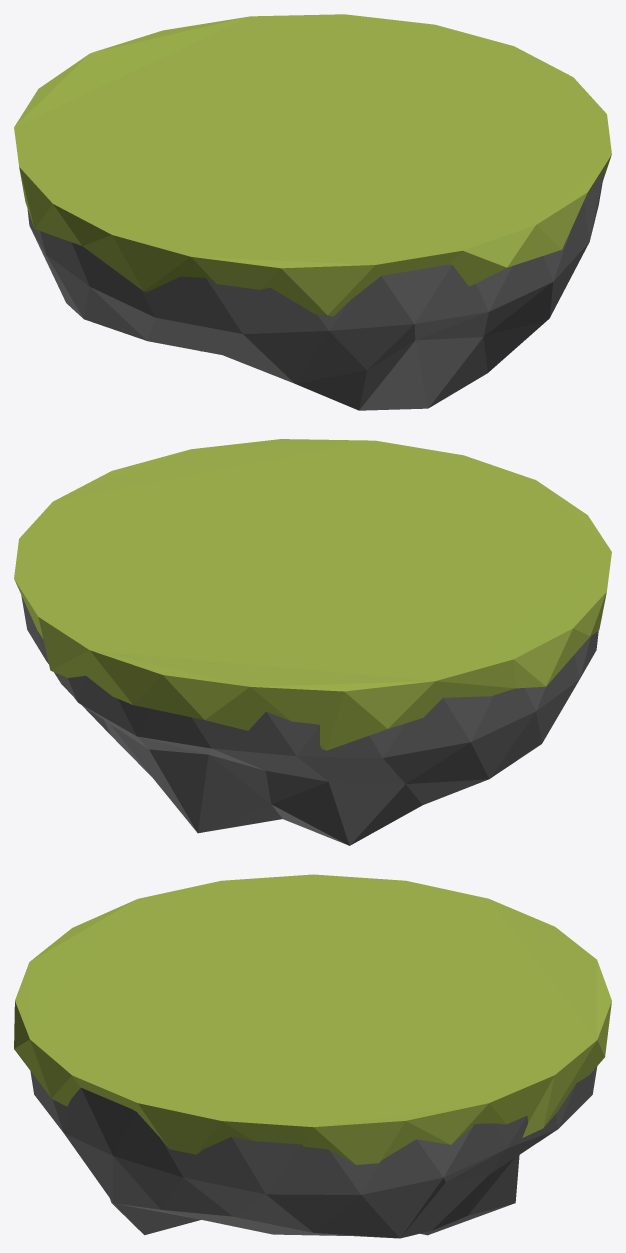
The model's file is smallIsland.fbx.
The picture shows the model from 3 angles, top to bottom: view 1: azimuth 30°, elevation 25°; view 2: azimuth 150°, elevation 25°; view 3: azimuth 270°, elevation 25°; orthographic projection.
Visible parts, largest first — view 1: Icosphere.001, Icosphere; view 2: Icosphere.001, Icosphere; view 3: Icosphere.001, Icosphere.
Boxes of the visible parts, x1,y1,x2,y2 form: Icosphere.001: [14, 14, 611, 316]; Icosphere: [27, 170, 604, 410]; Icosphere.001: [14, 439, 611, 750]; Icosphere: [21, 595, 598, 845]; Icosphere.001: [14, 874, 611, 1164]; Icosphere: [30, 1066, 597, 1238].
Bounding box in the file's own units: 203 × 83.15 × 204.
